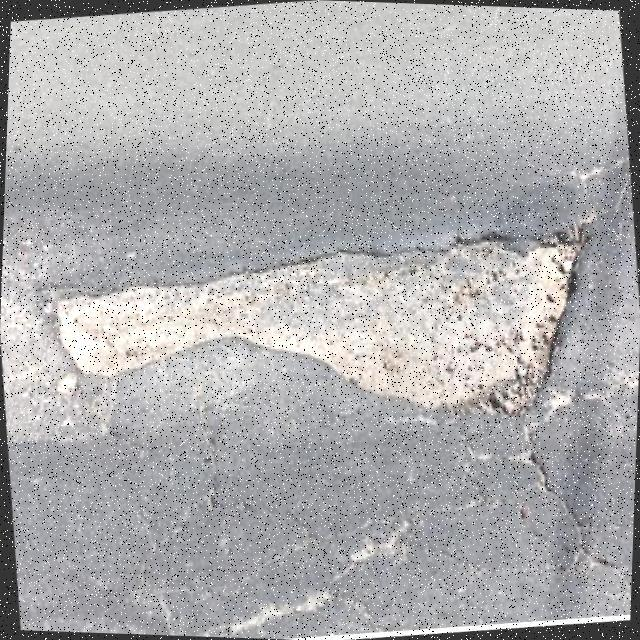Pothole: (52, 223, 594, 416)
